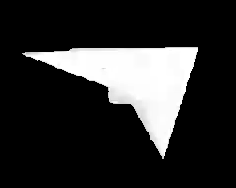Plane: (9, 33, 206, 168)
